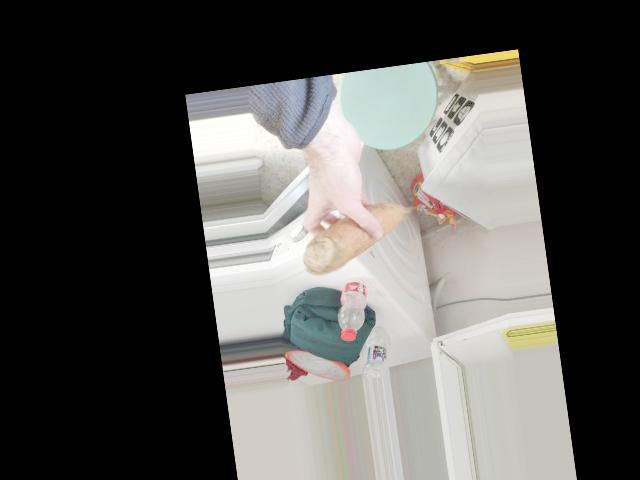sweet_potato: (303, 191, 410, 280)
